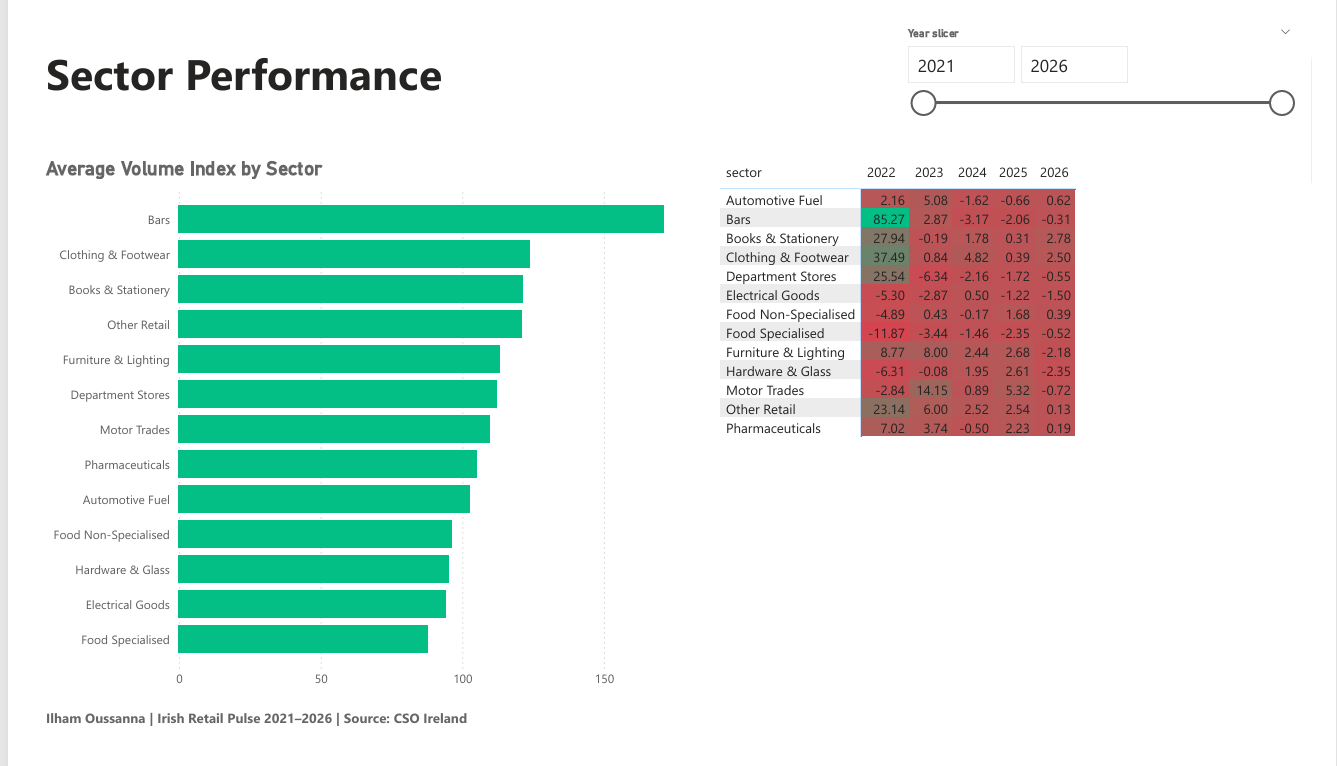

Layout of this report page (visuals, bound fields, positions):
{"tool":"powerbi","page":{"name":"Sector Performance","canvas":[1280,720],"ordinal":1},"visuals":[{"type":"barChart","title":"Average Volume Index by Sector","fields":{"Category":["rsi_clean.sector"],"Y":["Avg(rsi_clean.volume_index)"]},"box":[8.7,135.5,663.7,539.4],"z":0},{"type":"textbox","box":[8.7,0,843.1,122.5],"z":1000},{"type":"pivotTable","fields":{"Values":["rsi_clean.YoY Volume Change %"],"Rows":["rsi_clean.sector"],"Columns":["rsi_clean.Year"]},"box":[683.5,135.5,587.6,539.4],"z":2000},{"type":"slicer","fields":{"Values":["rsi_clean.Year"]},"box":[862.9,0,408.2,122.5],"z":3000},{"type":"textbox","box":[8.7,681.6,1262.5,27.8],"z":4000}]}

Visuals, with their boxes in screenshot pixels (x1, y1, x2, y2), scaled from the page's 1280x720 canvas onto the 1337x766 screenshot:
"Average Volume Index by Sector" barChart: bbox=(9, 144, 702, 718)
textbox: bbox=(9, 0, 890, 130)
pivotTable - rsi_clean.YoY Volume Change % x rsi_clean.sector: bbox=(714, 144, 1328, 718)
slicer - rsi_clean.Year: bbox=(901, 0, 1328, 130)
textbox: bbox=(9, 725, 1328, 755)
